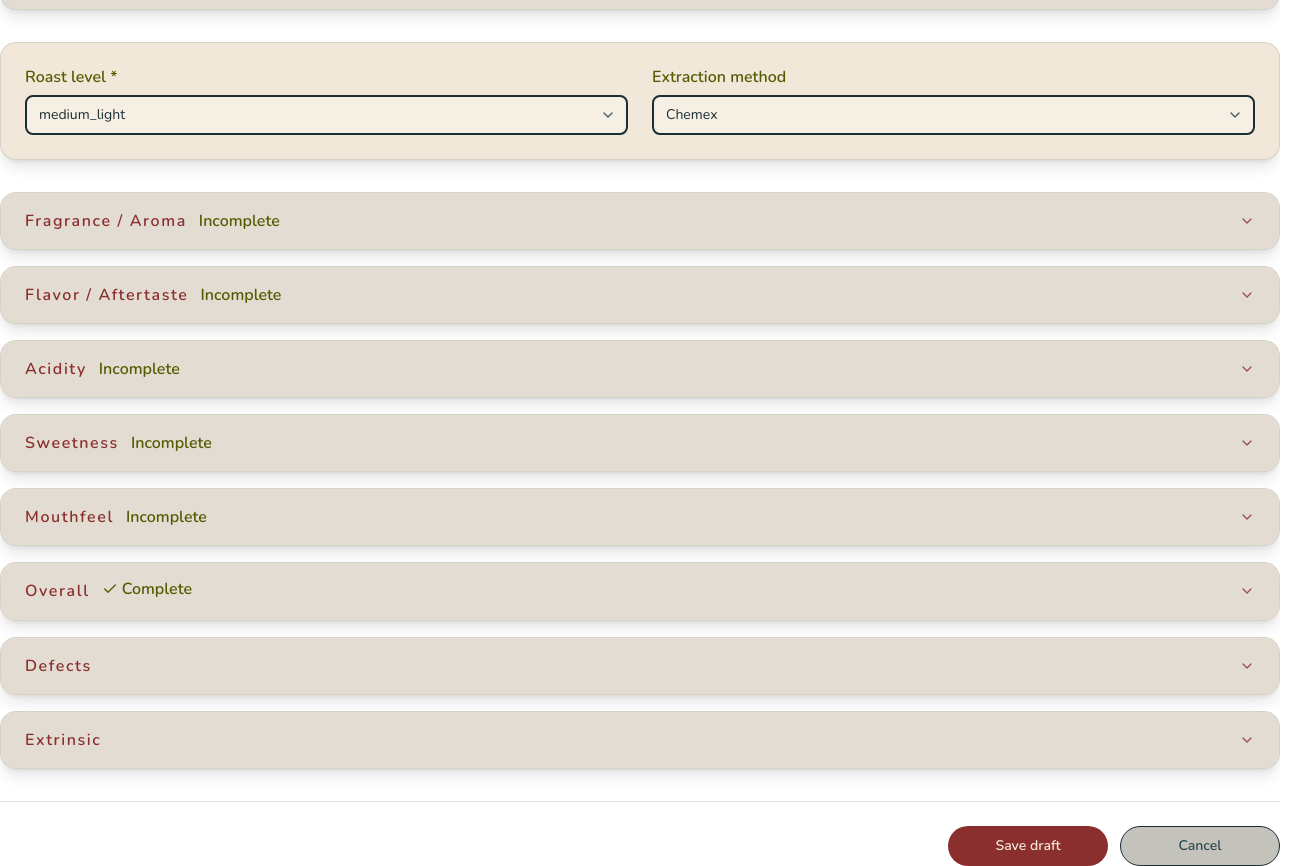
Test case: EvaluationForm: saving a draft (design.md D4; tasks 6.1) › shows the message of a 403 beside the actions and sends nothing again
(page scrolled)
Click the button "Save draft" at [1028, 846], box [948, 826, 1108, 865]
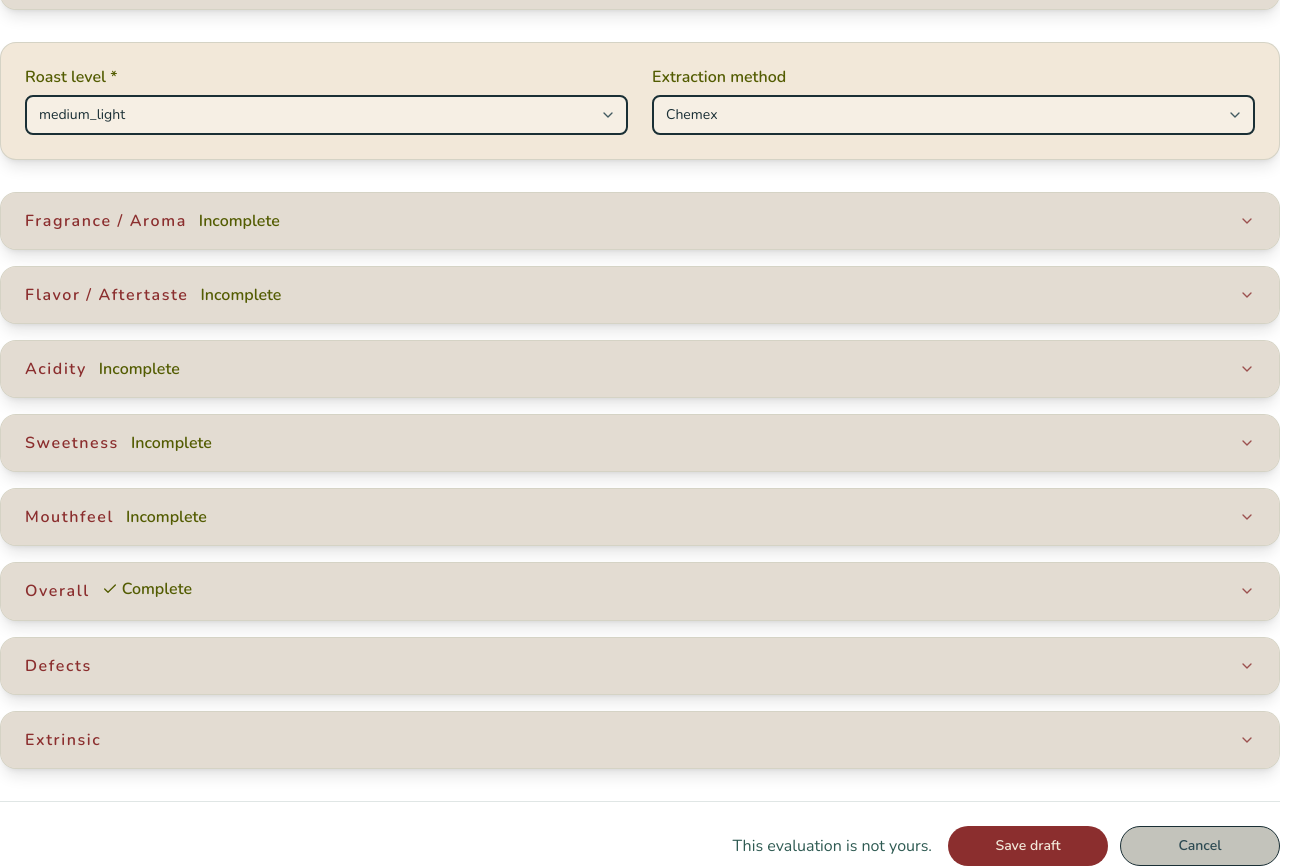
Expected: the message reads "This evaluation is not yours.", [733, 834, 932, 856]
